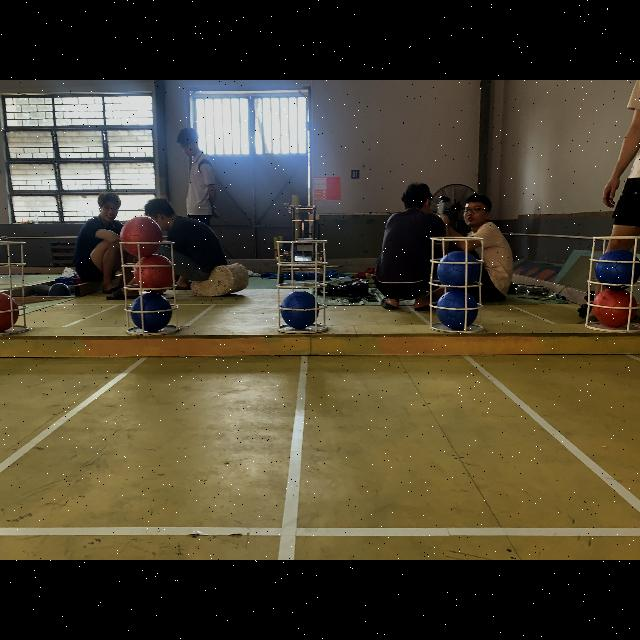B: (596, 248, 640, 290), (438, 250, 480, 292), (437, 290, 477, 330), (280, 291, 320, 331), (130, 293, 170, 333)
R: (593, 288, 639, 330), (119, 215, 163, 257), (134, 253, 176, 293), (1, 292, 18, 334)
